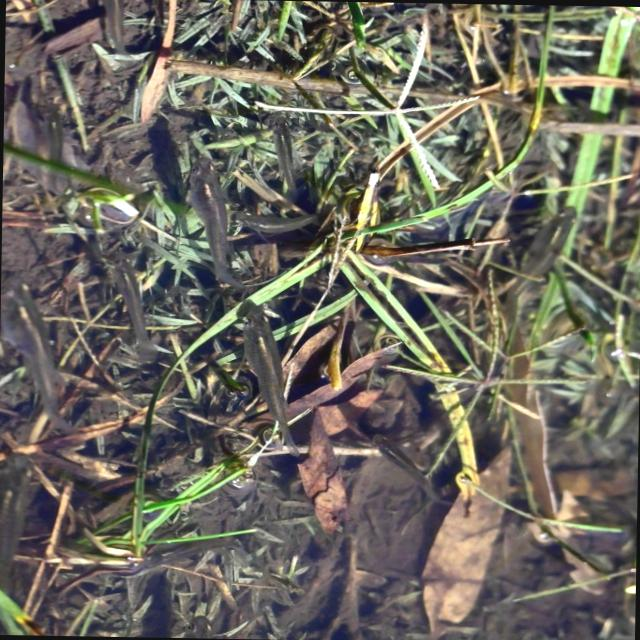Sivrisinek Baligi: (233, 308, 304, 454), (7, 292, 76, 428), (189, 160, 249, 297), (511, 200, 581, 300), (109, 251, 162, 356), (376, 432, 445, 503), (271, 116, 306, 202)
